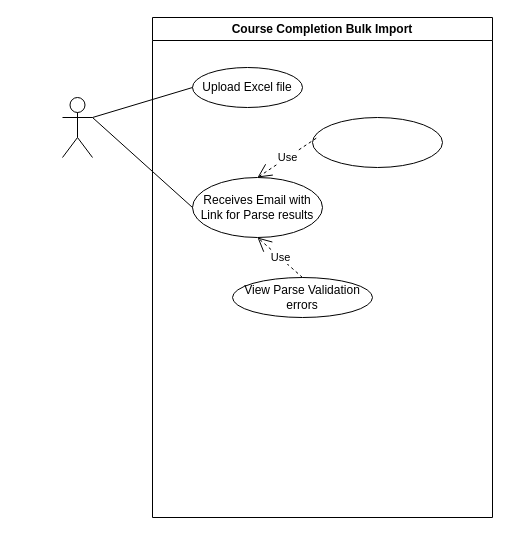
Some shapes in this 510 by 535 pixel diagram are drawn without their labels. Each missing label, with the box of its shape:
Training Facility Admin: (62, 96, 92, 158)
View Parse and Match results: (312, 116, 442, 168)
